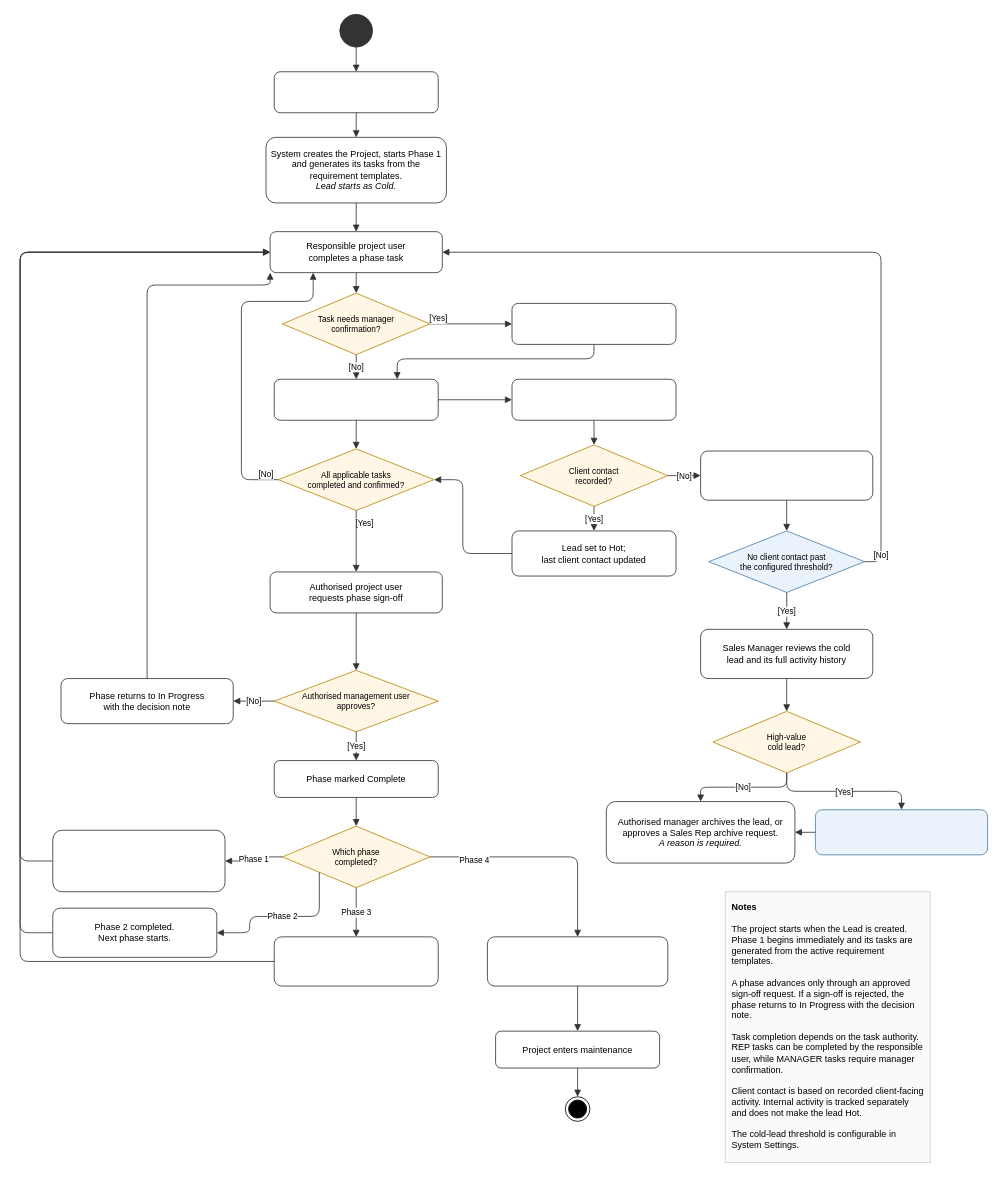
This 1002x1177 diagram has some shape labels left out. Each missing label, with the centre of its shape:
"Authorised manager confirms the task" belongs at pixel 593 323.
"Create Lead linked to Company and optionally Contact" belongs at pixel 355 92.
"Escalate high-value cold lead to Executive Manager" belongs at pixel 901 832.
"Interaction recorded on the timeline. Lead stays Cold." belongs at pixel 786 475.
"Log customer interaction and record its outcome" belongs at pixel 593 399.
"Phase 1 completed: Deal set to Closed-Won. Next phase starts." belongs at pixel 138 860.
"Phase 3 completed. Next phase starts." belongs at pixel 355 961.
"Phase 4 completed. Project lifecycle completed." belongs at pixel 577 961.
"Task accepted and progress updated" belongs at pixel 355 399.
